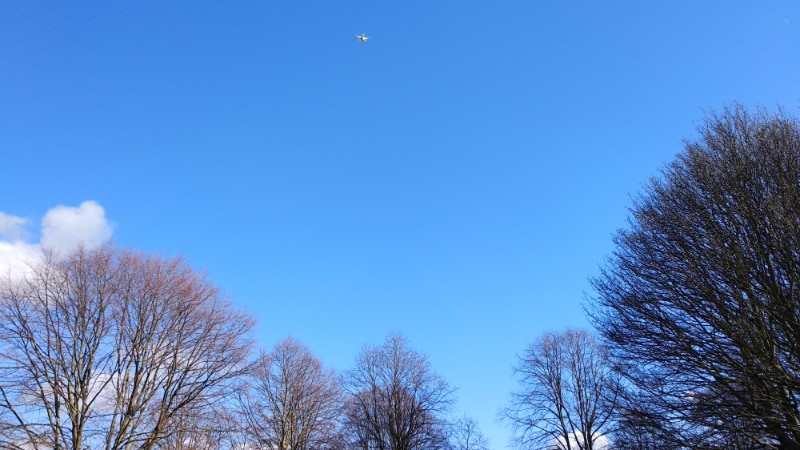drone: (356, 32, 370, 45)
